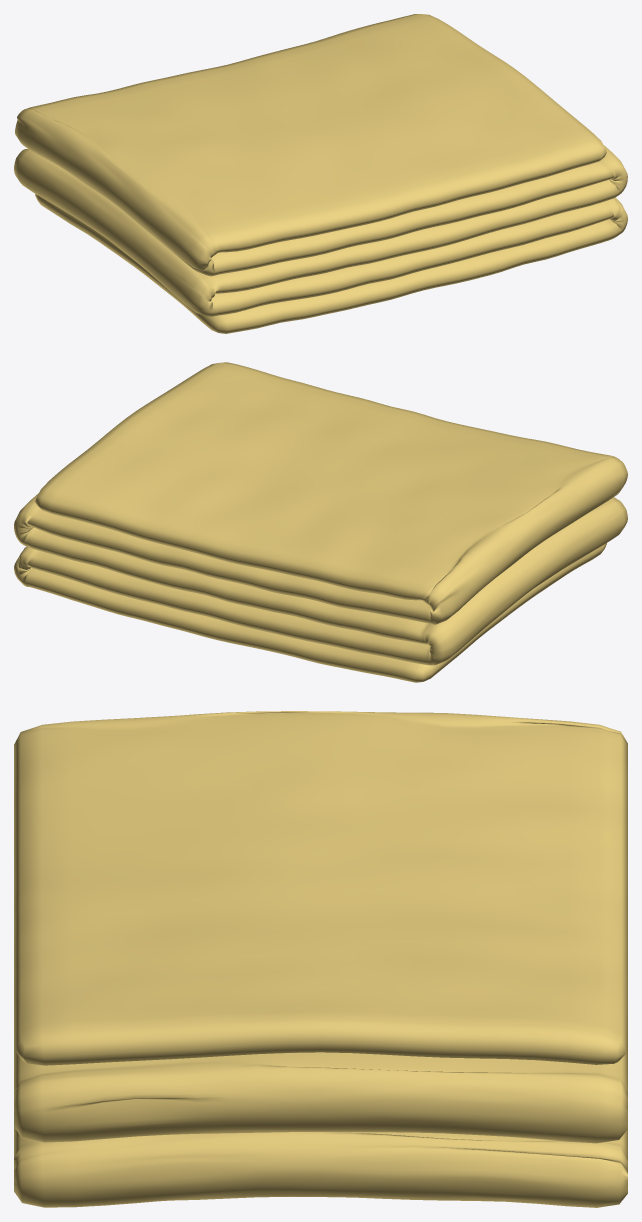
The model's file is cloth.fbx.
3 renders of one model, top to bottom at view 1: azimuth 30°, elevation 25°; view 2: azimuth 150°, elevation 25°; view 3: azimuth 270°, elevation 25°, orthographic. The views are drawn at different scales.
Parts seen in each view (by area): view 1: Folded_Cloth; view 2: Folded_Cloth; view 3: Folded_Cloth.
Boxes of the visible parts, x1,y1,x2,y2 form: Folded_Cloth: [14, 14, 627, 333]; Folded_Cloth: [14, 362, 627, 682]; Folded_Cloth: [14, 711, 627, 1207].
Size of the model in its own units: 98.82 by 24.98 by 74.38.
